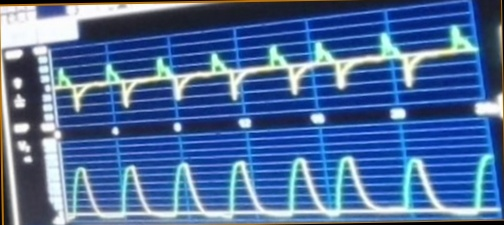Accumulation Flow: (55, 27, 473, 112)
Volume: (68, 153, 491, 224)
